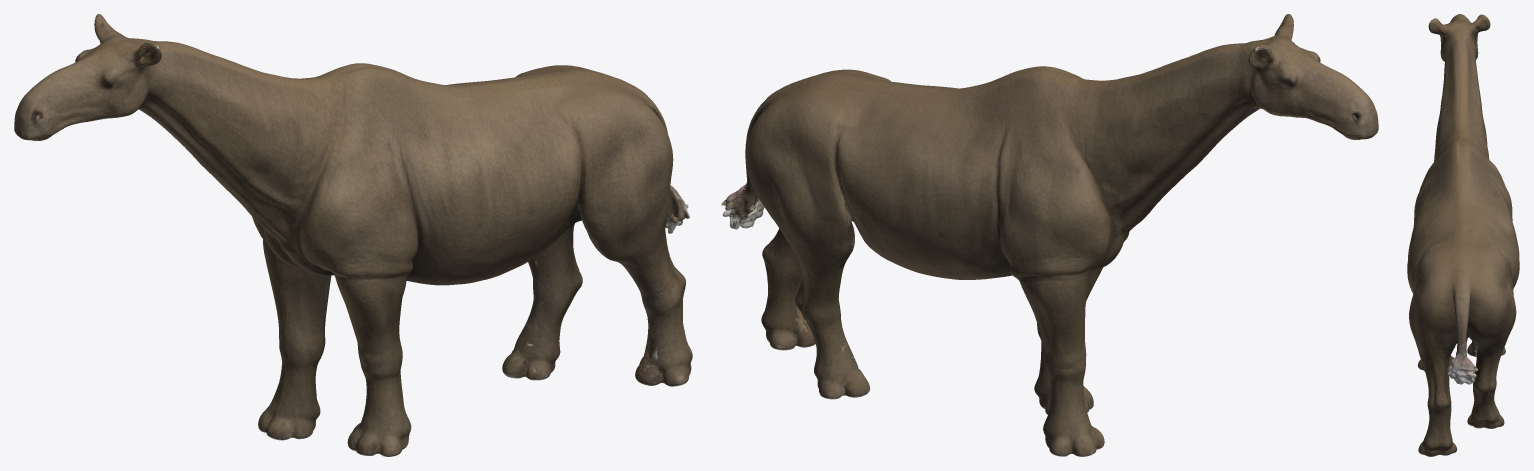
File: Paraceratherium.glb
The picture shows the model from 3 angles, left to right: view 1: azimuth 30°, elevation 25°; view 2: azimuth 150°, elevation 25°; view 3: azimuth 270°, elevation 25°; orthographic projection. The views are drawn at different scales.
Parts seen in each view (by area): view 1: world; view 2: world; view 3: world.
Boxes of the visible parts, bbox=[...] form: world: bbox=[14, 14, 692, 456]; world: bbox=[721, 14, 1378, 456]; world: bbox=[1407, 14, 1519, 456].
Size of the model in its own units: 1.99 by 1.32 by 0.478.
Materials: 1 (1 with a texture image).
